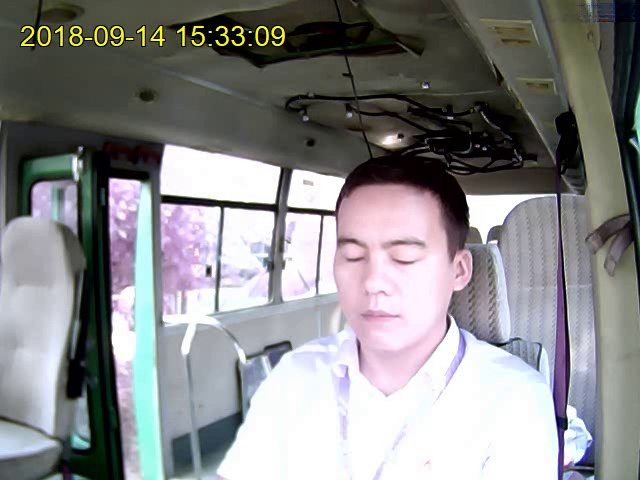closed_eye: (388, 252, 425, 266), (341, 249, 367, 264)
closed_mouth: (357, 307, 402, 324)
